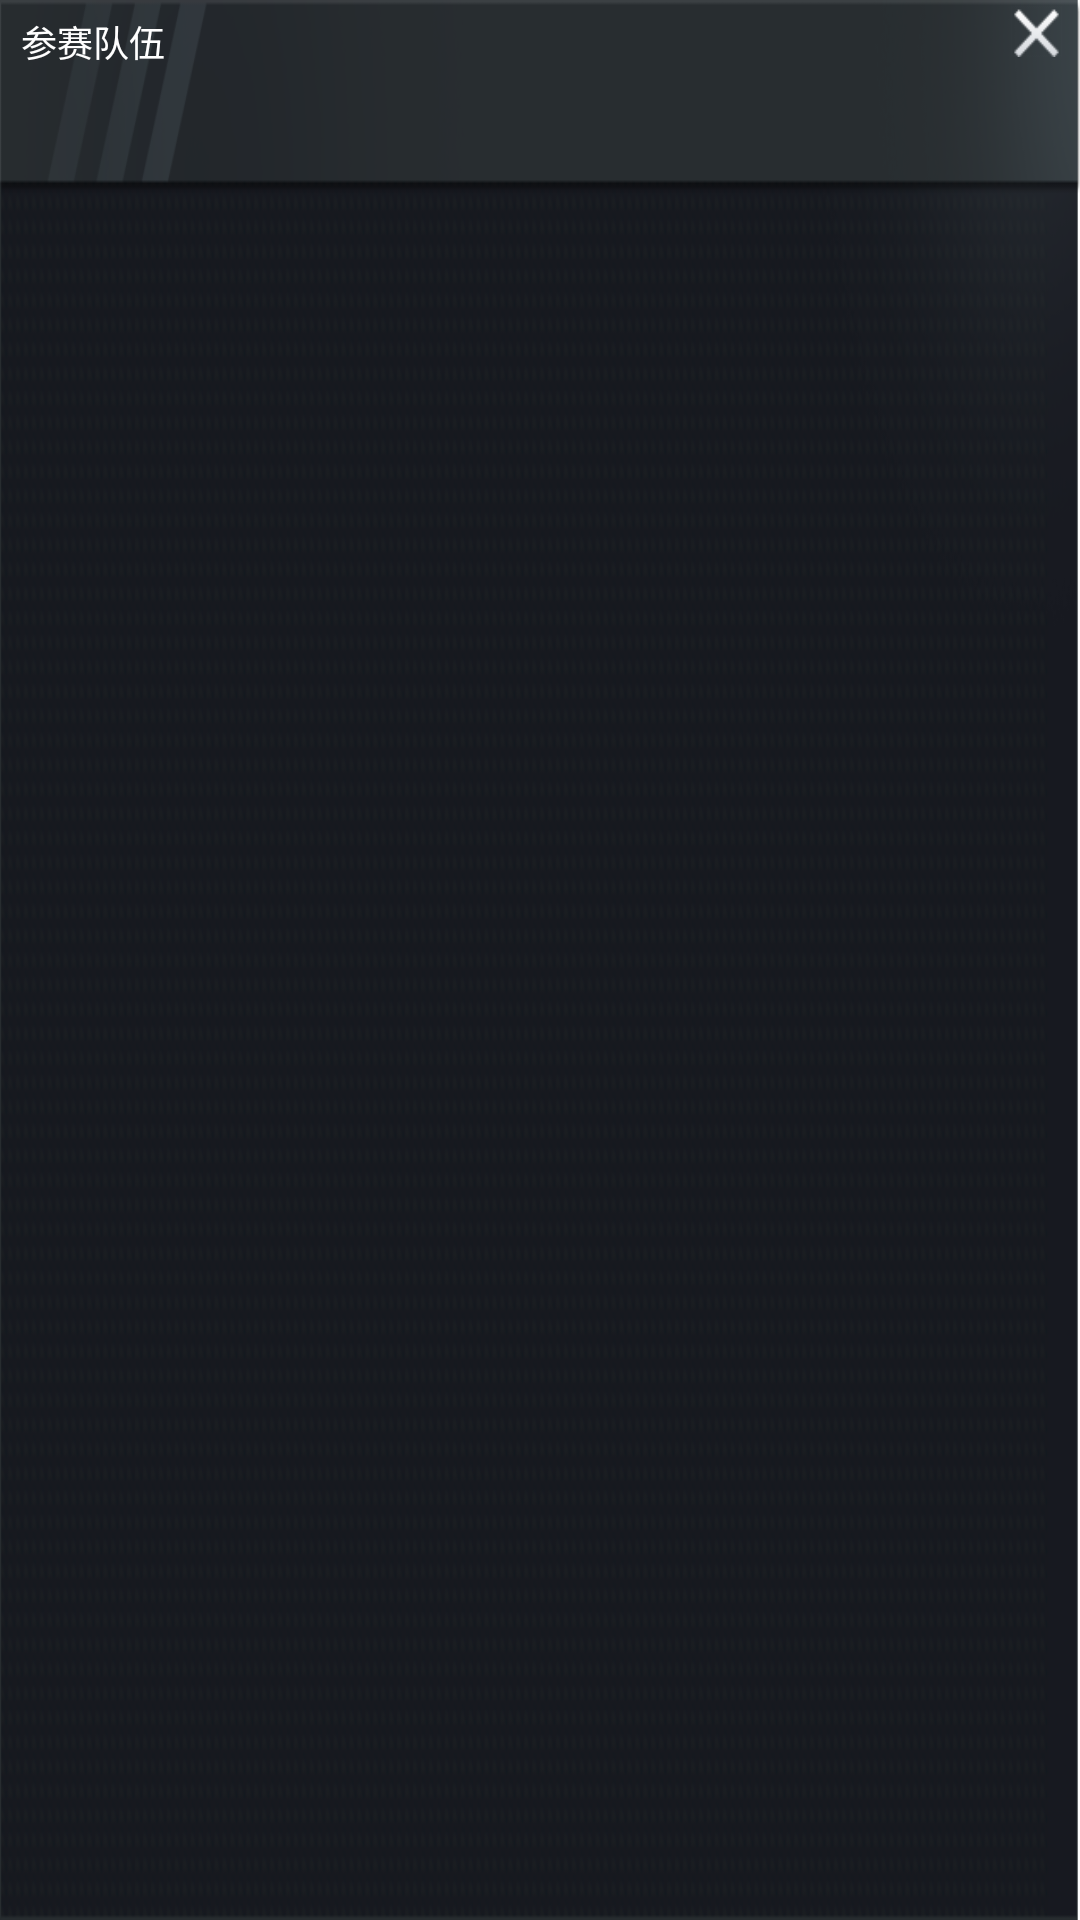

Icon click points for this 1080x1920 phone screenshot, format [x,y]:
integral details close: [1036,33]
